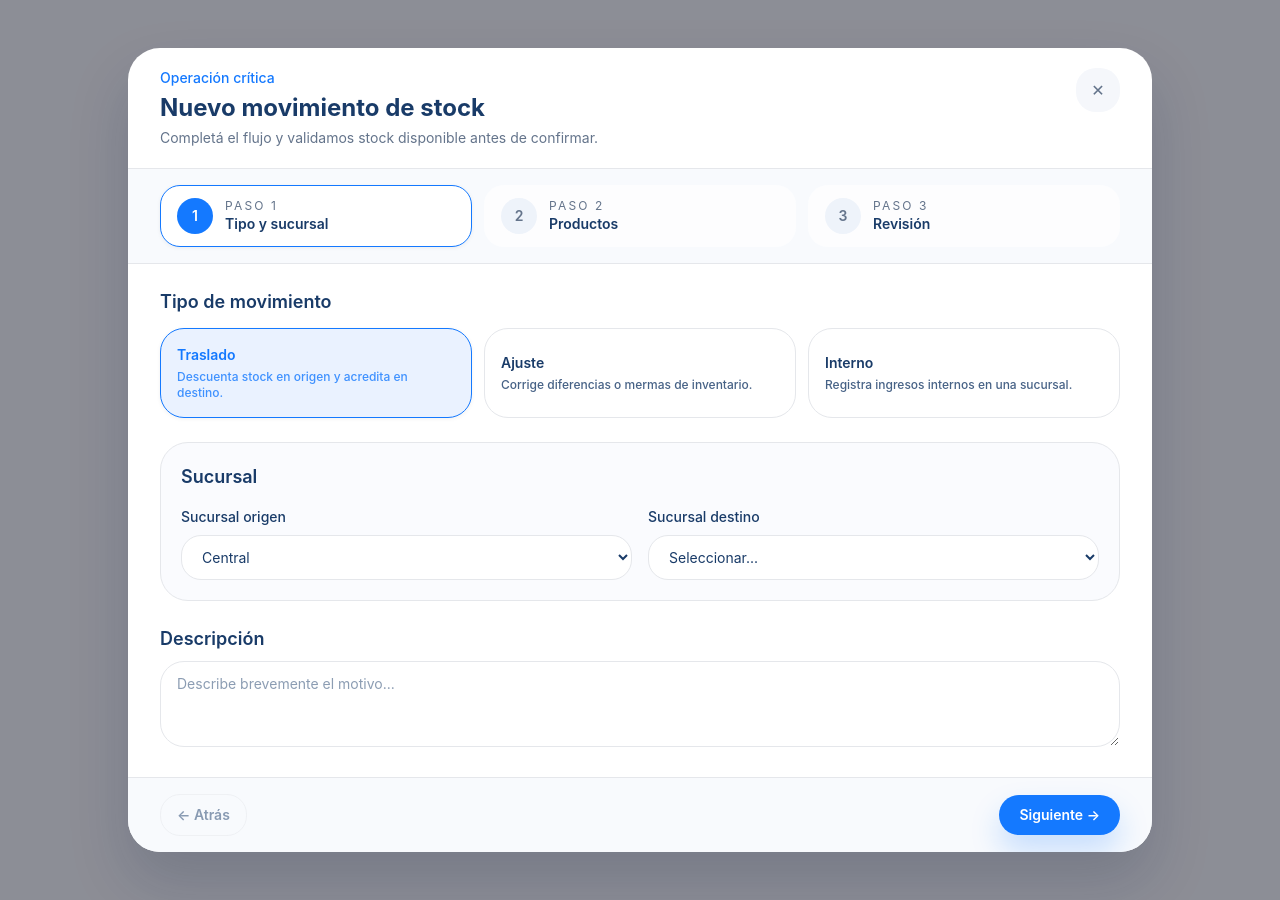
Test: validateStep1 — navegación al paso 1 › muestra error si TRANSFER no tiene sucursal destino
to_branch_id queda null (no lo asignamos)
Click the button "Siguiente →" at [1060, 815], box [999,795,1120,835]
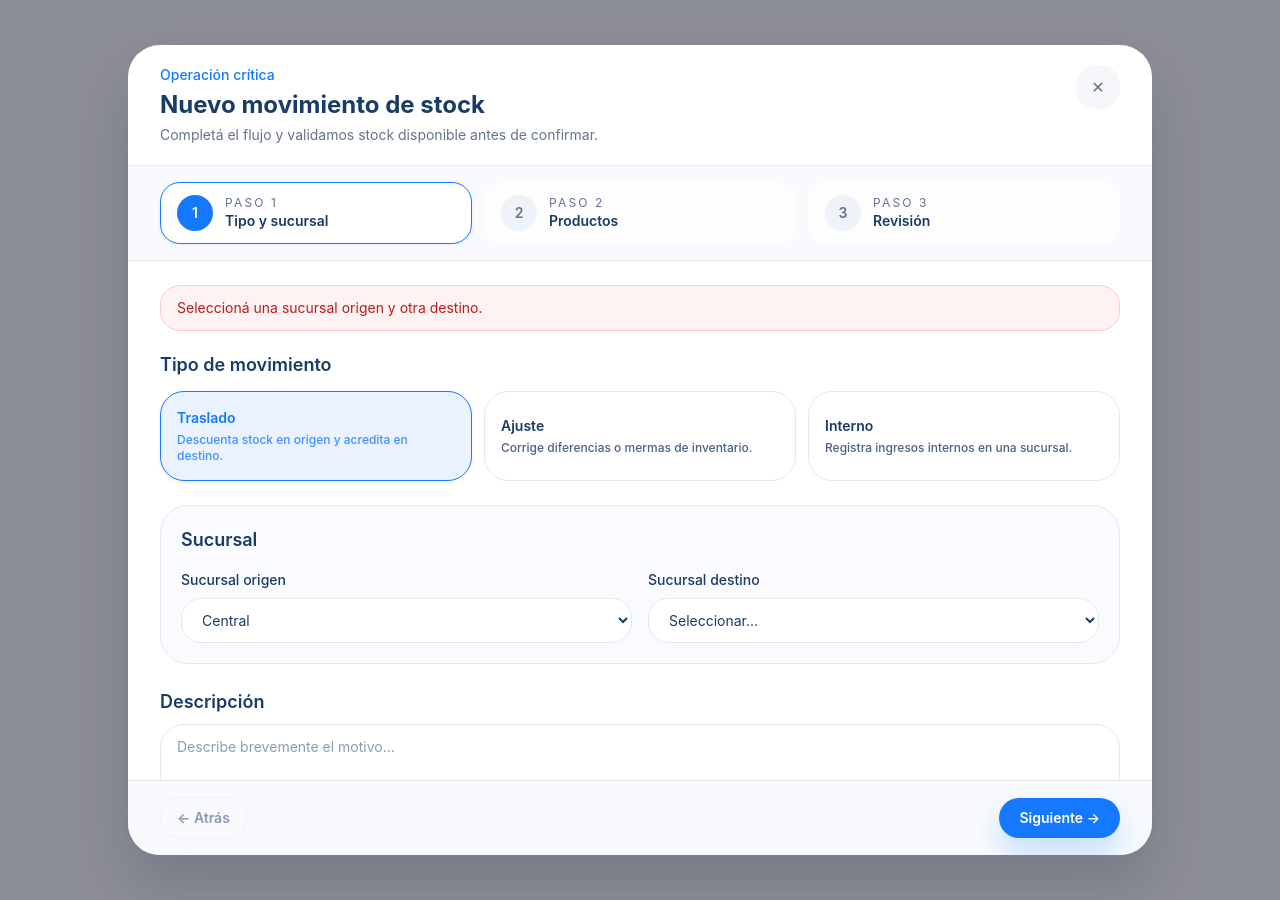
Check: the text "sucursal origen y otra destino" is shown, box [177,299,482,316]
